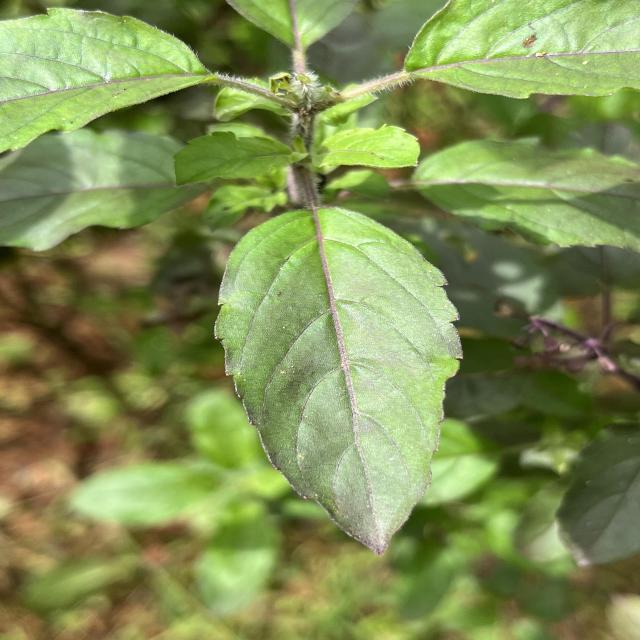Ocimum tenuiflorum: (208, 200, 468, 562)
